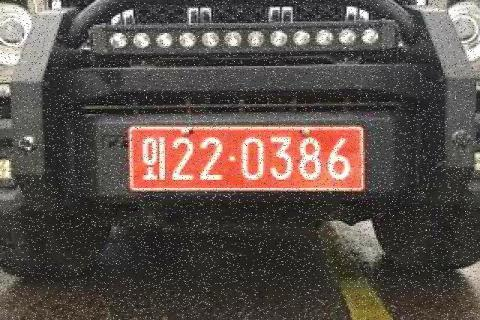LicensePlate: (129, 124, 367, 192)
